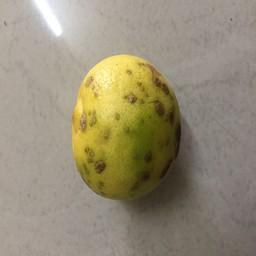Bad_lime: (71, 50, 187, 204)
